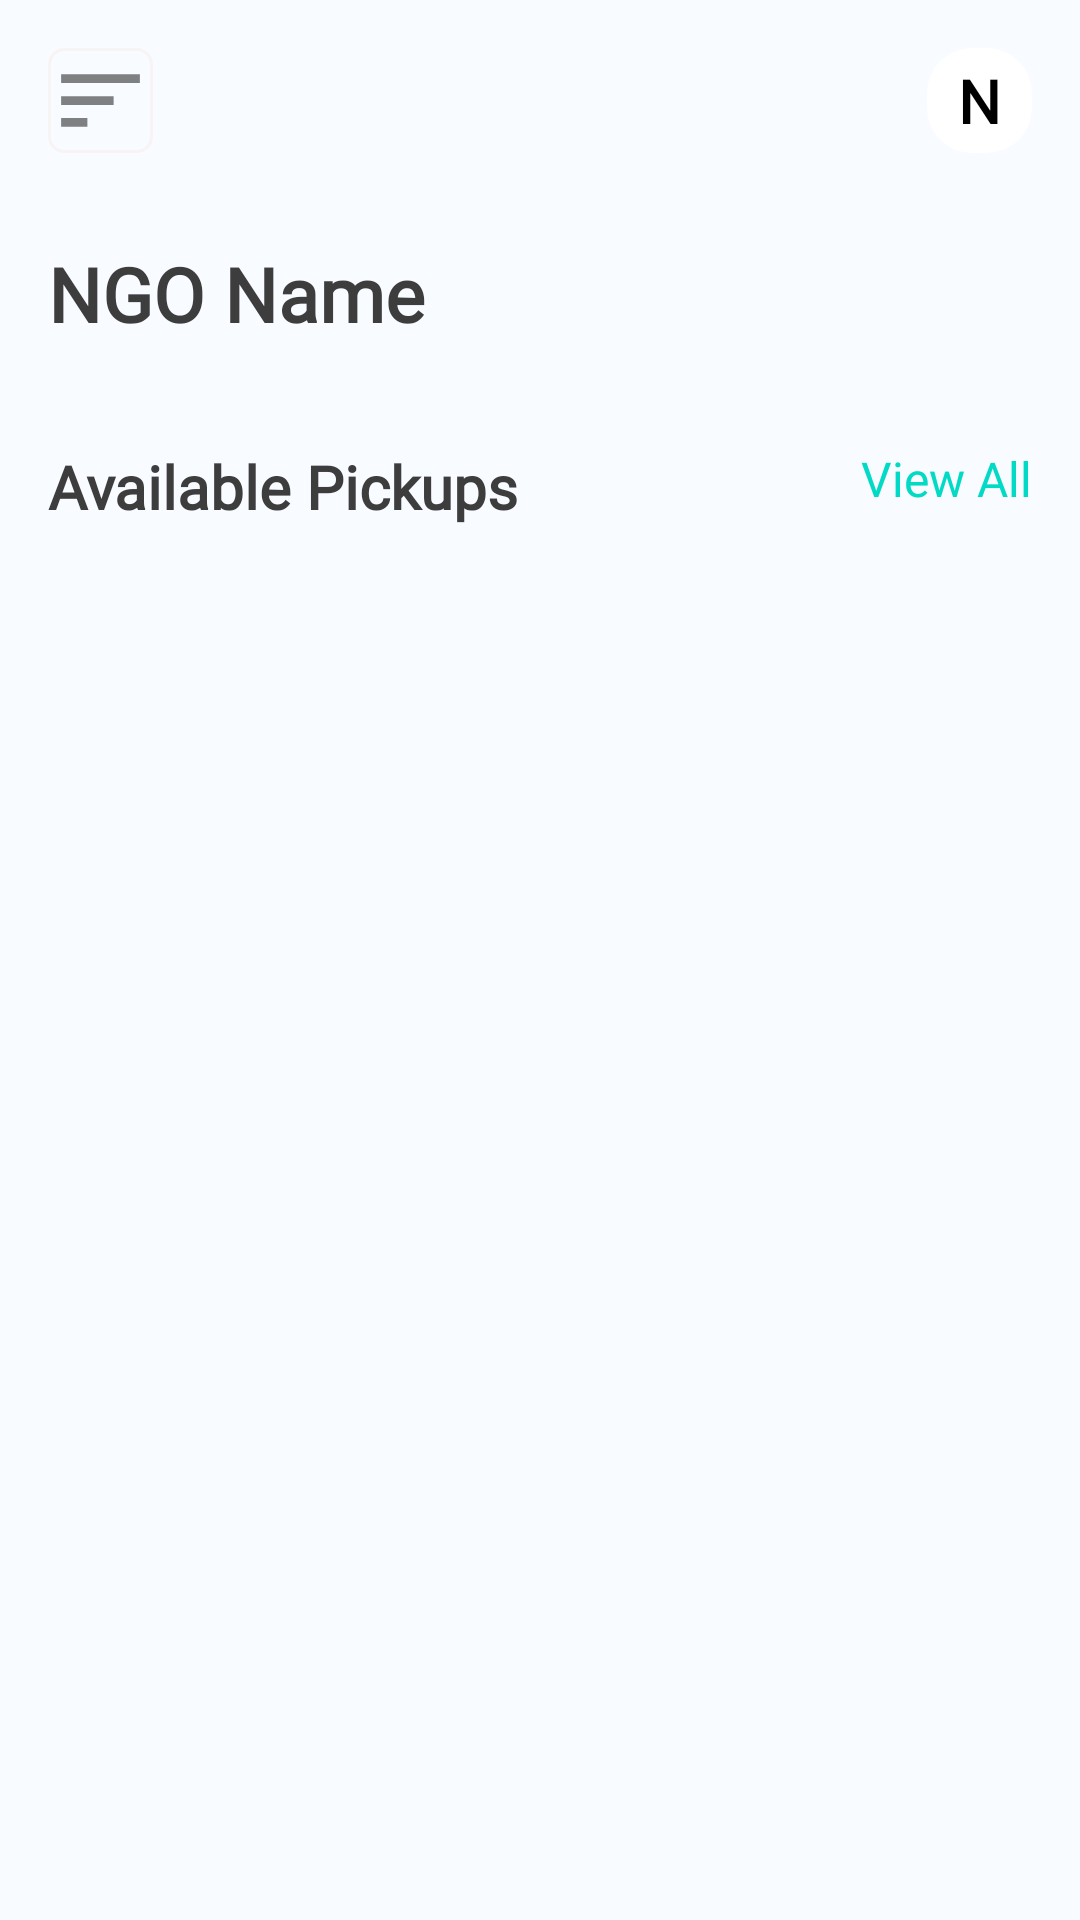

Screen size 1080×1920. Icon name, then its center in pixels as (x=x, y=y):
sort: (x=100, y=100)
